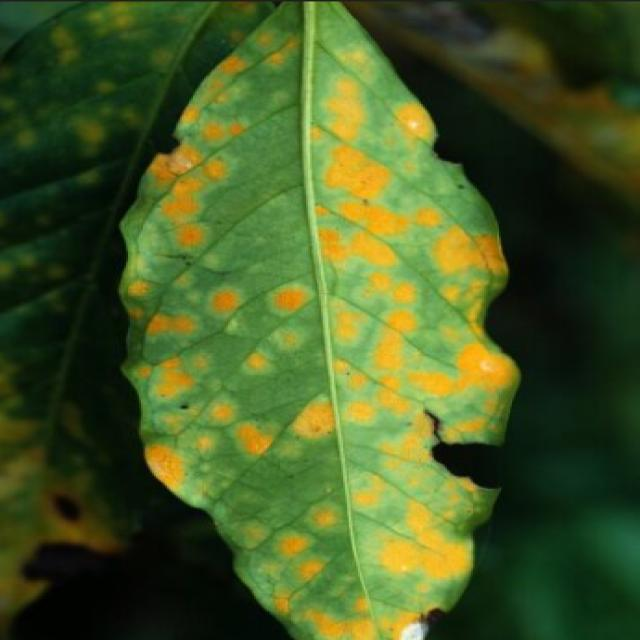leaf_rust: (122, 3, 516, 639)
